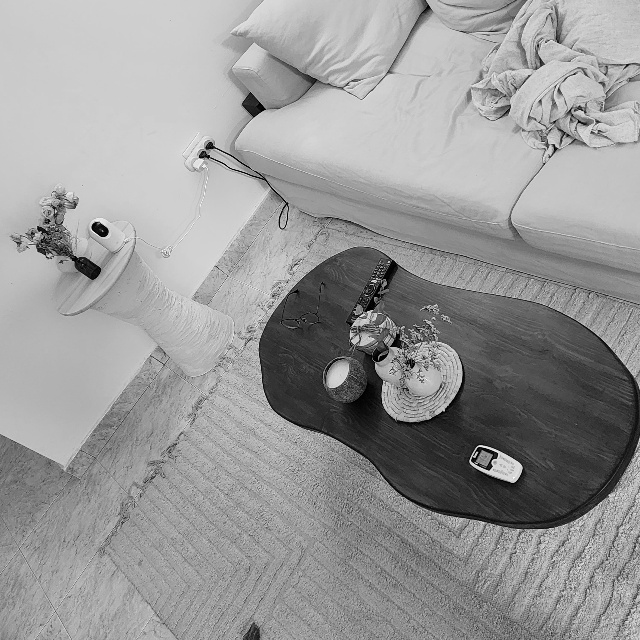glasses: (280, 283, 328, 331)
